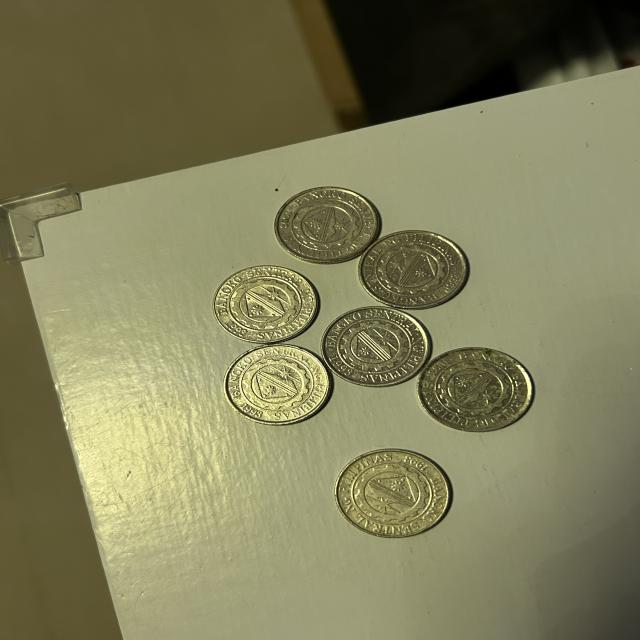1_Old_Back: (430, 356, 518, 425), (348, 458, 434, 522), (371, 238, 454, 300), (333, 316, 414, 378), (240, 355, 318, 413), (290, 196, 365, 256), (227, 275, 306, 331)
